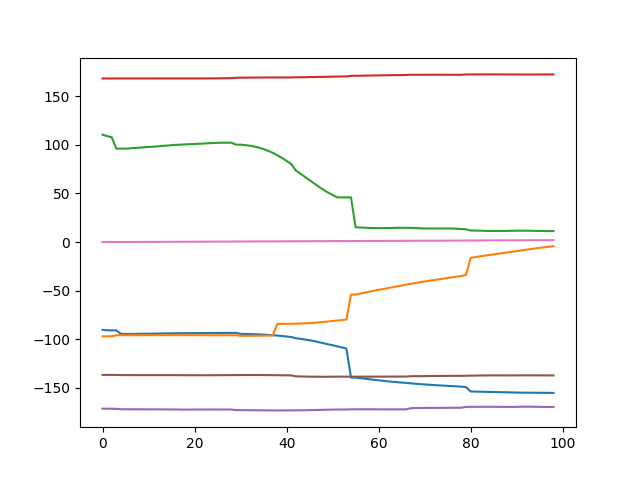Good_Bicep_Curl_Down: (2, 1, 640, 460)
